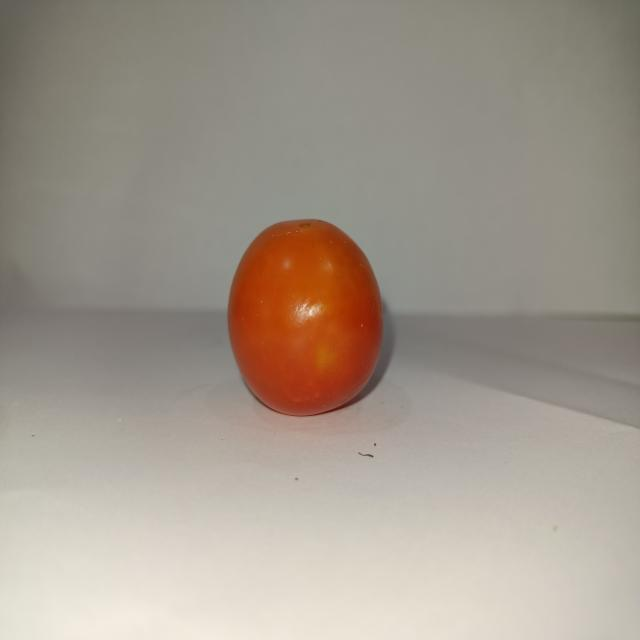Red: (226, 217, 384, 417)
